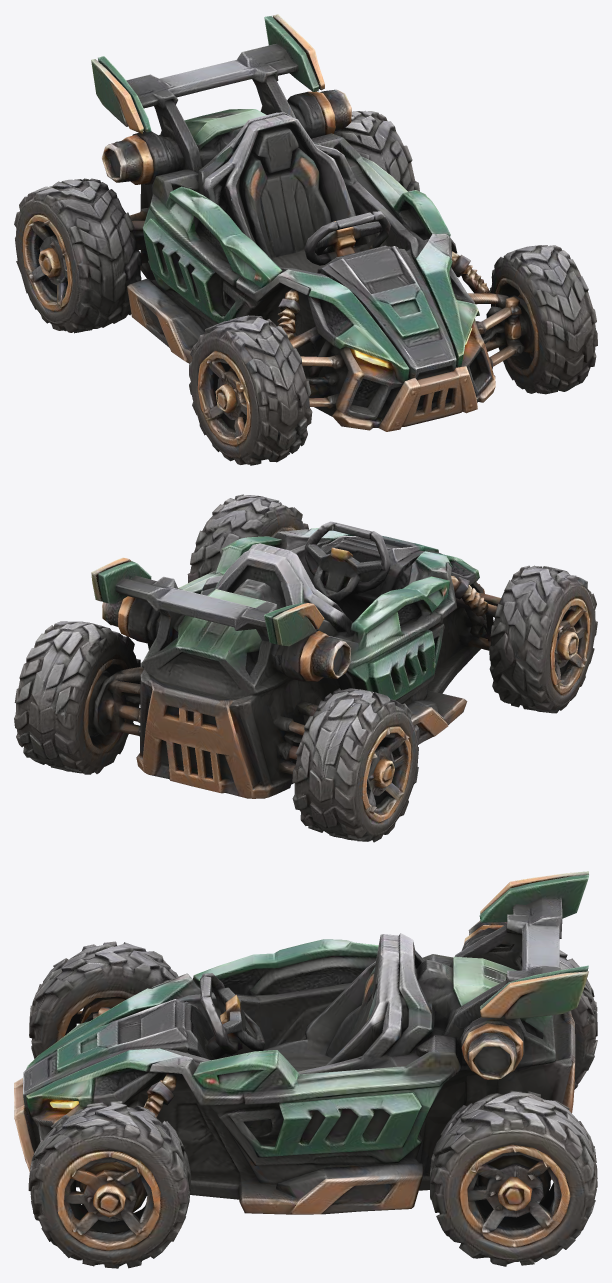
Rendered from 03-jade-lynx.glb.
3 renders of one model, top to bottom at view 1: azimuth 30°, elevation 25°; view 2: azimuth 150°, elevation 25°; view 3: azimuth 270°, elevation 25°, orthographic. The views are drawn at different scales.
Parts seen in each view (by area): view 1: 03-jade-lynx; view 2: 03-jade-lynx; view 3: 03-jade-lynx.
Part boxes in pixels (x1,y1,x2,y2): 03-jade-lynx: (14, 14, 597, 465); 03-jade-lynx: (14, 494, 597, 842); 03-jade-lynx: (14, 871, 597, 1268).
Size of the model in its own units: 1.51 by 0.9243 by 1.89.
Materials: 1 (1 with a texture image).
